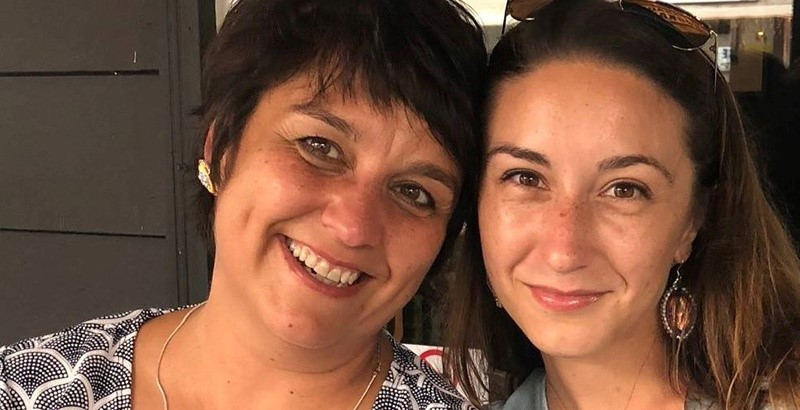face_no_mask: (199, 5, 485, 352), (473, 4, 723, 358)
